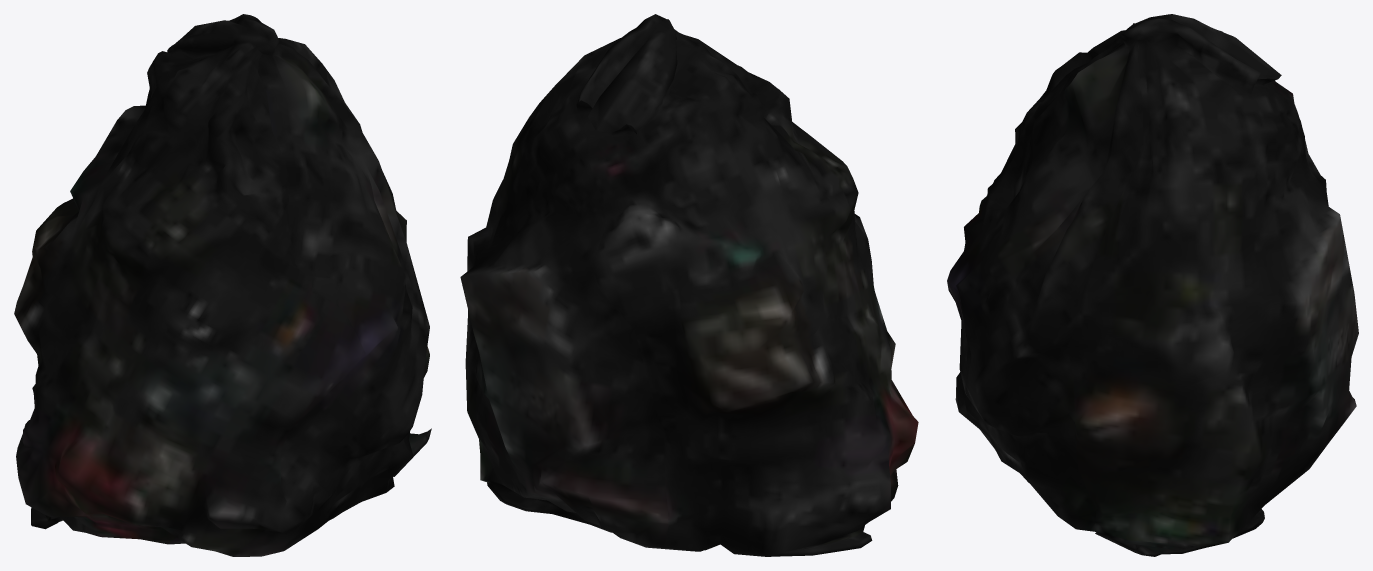
Rendered from trashbag.glb.
3 renders of one model, left to right at view 1: azimuth 30°, elevation 25°; view 2: azimuth 150°, elevation 25°; view 3: azimuth 270°, elevation 25°, orthographic. The views are drawn at different scales.
Visible parts, largest first — view 1: trashbag; view 2: trashbag; view 3: trashbag.
Boxes of the visible parts, x1,y1,x2,y2 form: trashbag: [14, 14, 431, 556]; trashbag: [460, 14, 918, 556]; trashbag: [947, 14, 1358, 556].
Bounding box in the file's own units: 0.5281 × 0.575 × 0.4629.
1 material, 1 textured.
